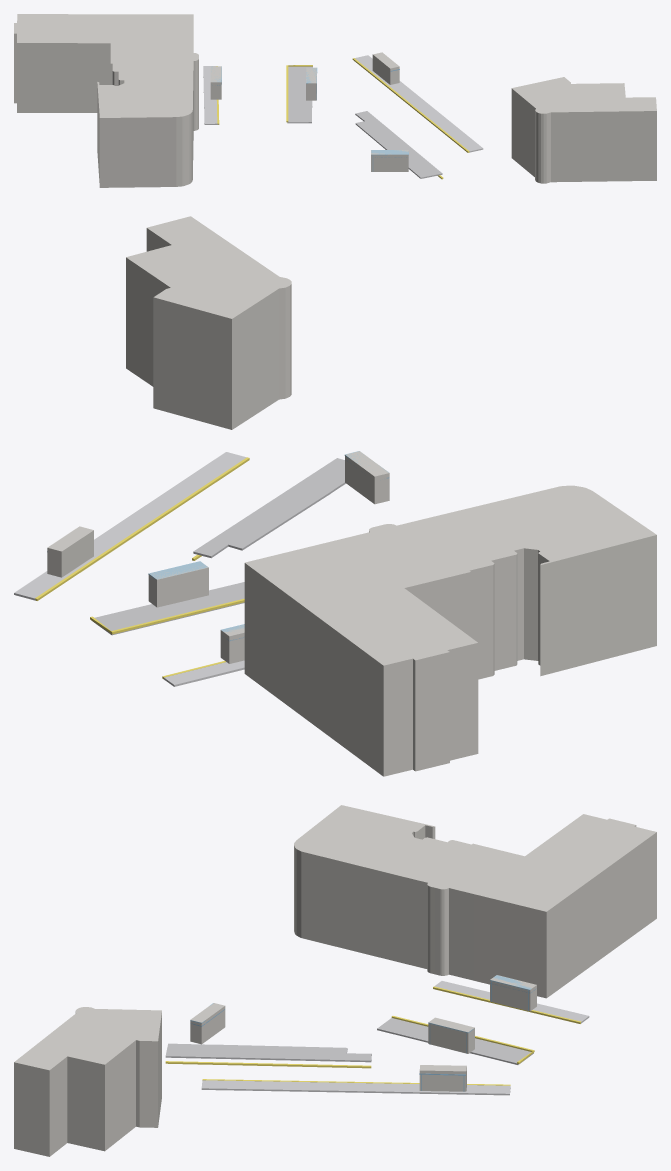
Rendered from 8589991-bern-monbijou.glb.
The picture shows the model from 3 angles, top to bottom: view 1: azimuth 30°, elevation 25°; view 2: azimuth 150°, elevation 25°; view 3: azimuth 270°, elevation 25°; orthographic projection. The views are drawn at different scales.
Visible parts, largest first — view 1: building_part@x, platform_surface@0, platform_body@0, boarding_edge@0, canopy@0; view 2: building_part@x, platform_surface@0, platform_body@0, boarding_edge@0; view 3: building_part@x, platform_surface@0, platform_body@0, boarding_edge@0.
Part boxes in pixels (bbox=[...]): building_part@x: bbox=[14, 14, 656, 187]; platform_surface@0: bbox=[287, 66, 442, 178]; platform_body@0: bbox=[203, 55, 483, 152]; boarding_edge@0: bbox=[216, 58, 469, 179]; canopy@0: bbox=[211, 66, 408, 171]; building_part@x: bbox=[47, 216, 656, 776]; platform_surface@0: bbox=[91, 458, 345, 635]; platform_body@0: bbox=[14, 452, 246, 686]; boarding_edge@0: bbox=[35, 457, 249, 679]; building_part@x: bbox=[14, 805, 656, 1156]; platform_surface@0: bbox=[165, 1018, 533, 1064]; platform_body@0: bbox=[201, 981, 589, 1095]; boarding_edge@0: bbox=[165, 986, 581, 1085].
Size of the model in its own units: 91.99 by 15.15 by 94.2.
